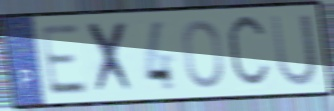4: (139, 18, 180, 94)
C: (225, 10, 273, 94)
E: (38, 22, 92, 98)
O: (180, 17, 226, 91)
U: (268, 11, 320, 89)
X: (84, 18, 138, 98)
